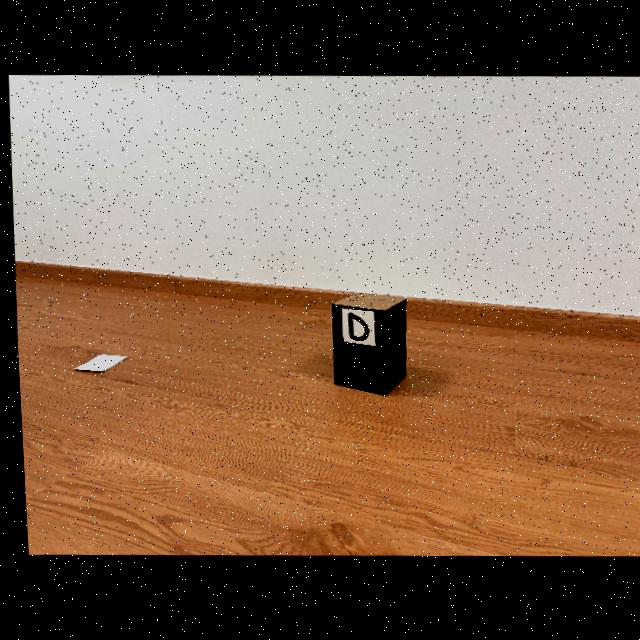A: (7, 76, 640, 318)
